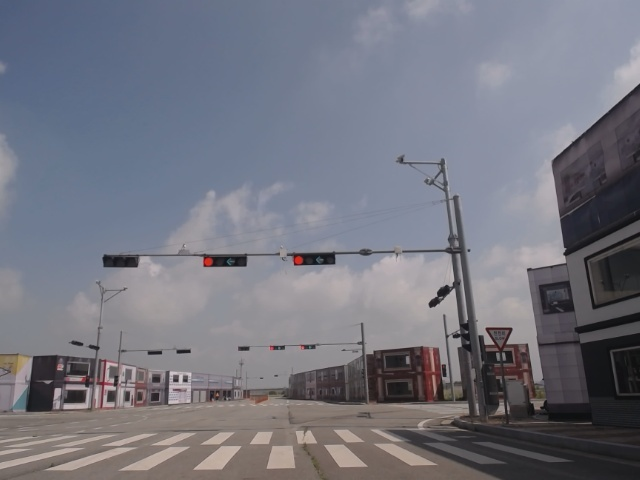left_green_4: (202, 255, 248, 267), (293, 254, 335, 266)
